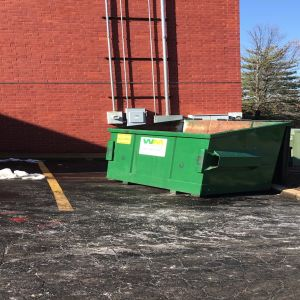Dumpster: (105, 116, 295, 198)
